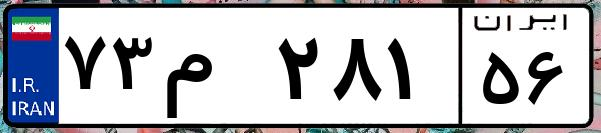1: (385, 28, 445, 110)
2: (270, 28, 330, 110)
3: (110, 28, 158, 98)
5: (475, 38, 525, 113)
6: (525, 38, 570, 115)
7: (57, 26, 110, 100)
8: (330, 28, 385, 110)
م: (158, 20, 270, 120)
